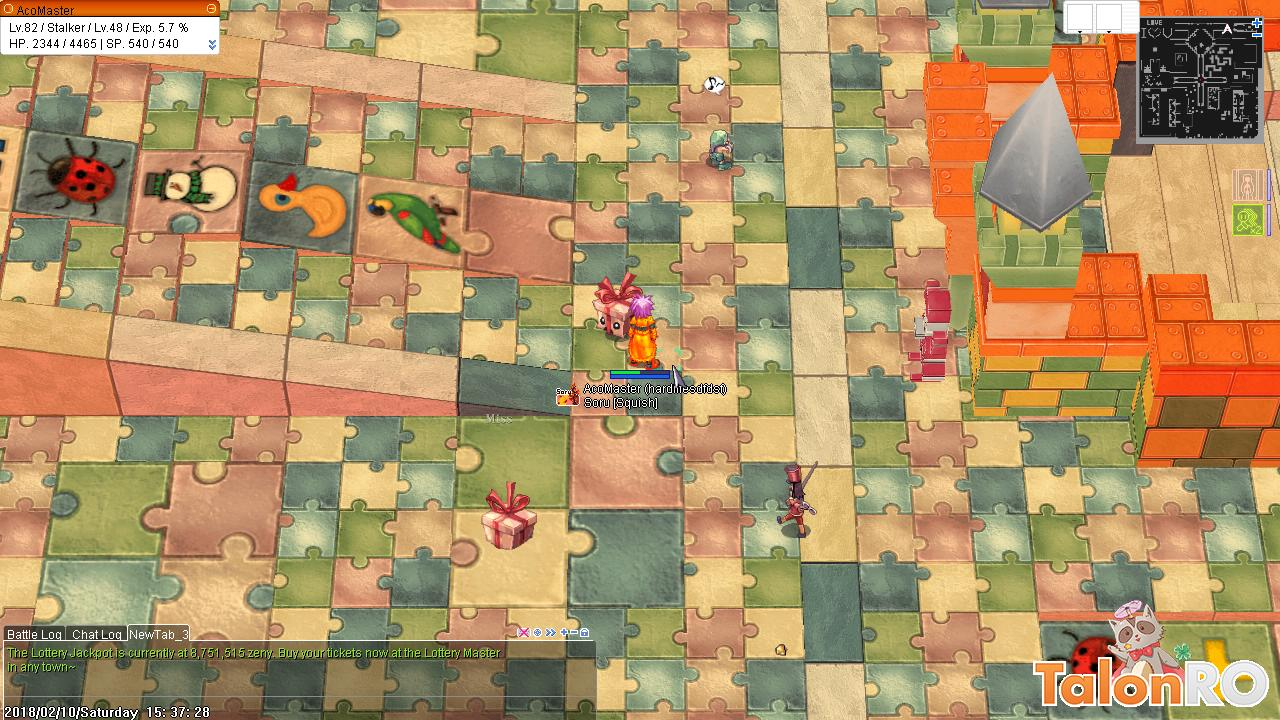loot: (769, 638, 793, 658)
mob: (773, 457, 823, 543)
myst_case: (481, 480, 538, 553), (593, 275, 628, 341)
